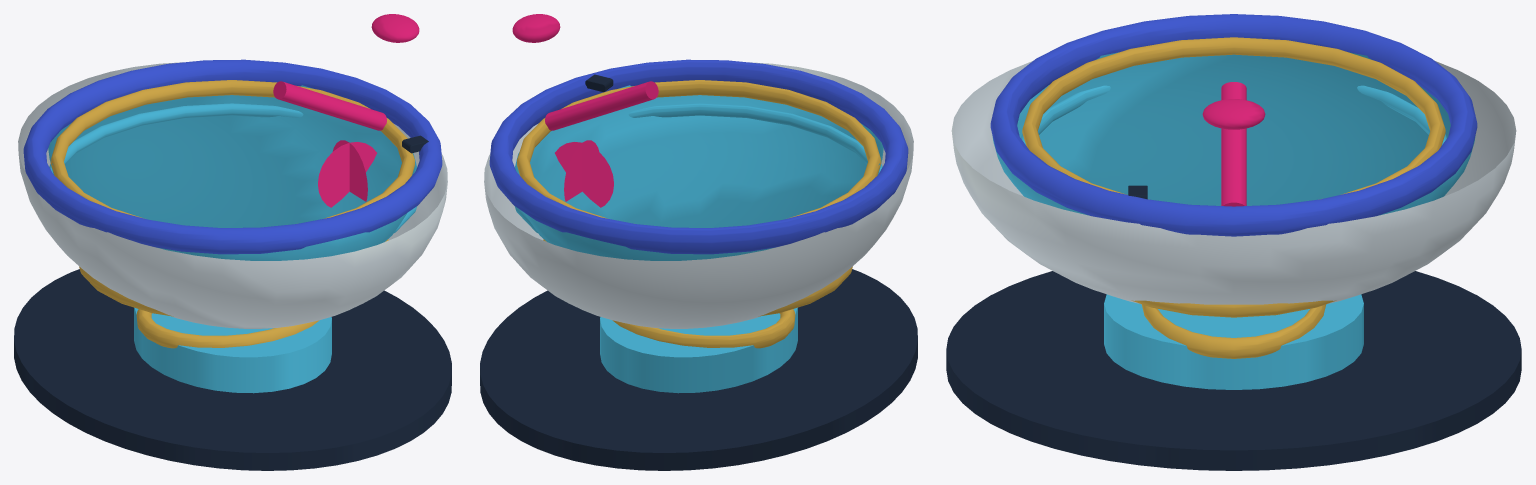
File: 0873_钟表图鉴_日晷.glb
3 views of the same model, side by side, from view 1: azimuth 30°, elevation 25°; view 2: azimuth 150°, elevation 25°; view 3: azimuth 270°, elevation 25° (orthographic). The views are drawn at different scales.
Visible parts, largest first — view 1: card_0873; view 2: card_0873; view 3: card_0873.
Part boxes in pixels (x1=…): card_0873: x1=14, y1=14, x2=451, y2=470; card_0873: x1=480, y1=14, x2=917, y2=470; card_0873: x1=946, y1=14, x2=1521, y2=470.
Size of the model in its own units: 1.22 by 1 by 1.46.
